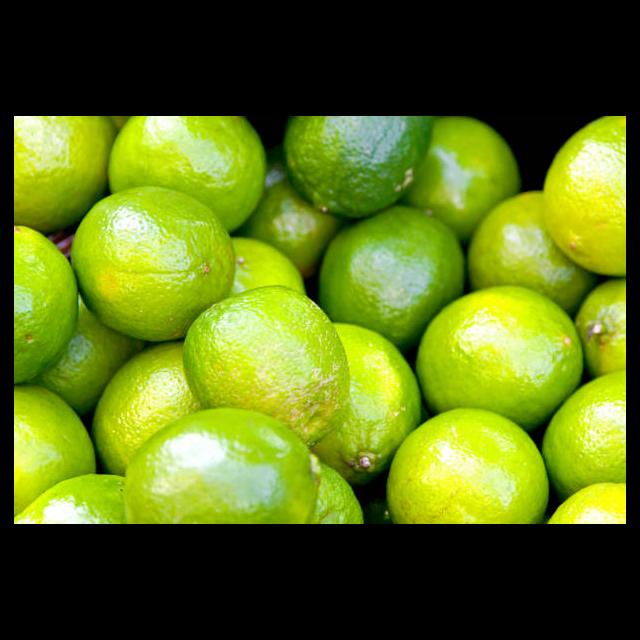lime: (66, 187, 236, 344)
